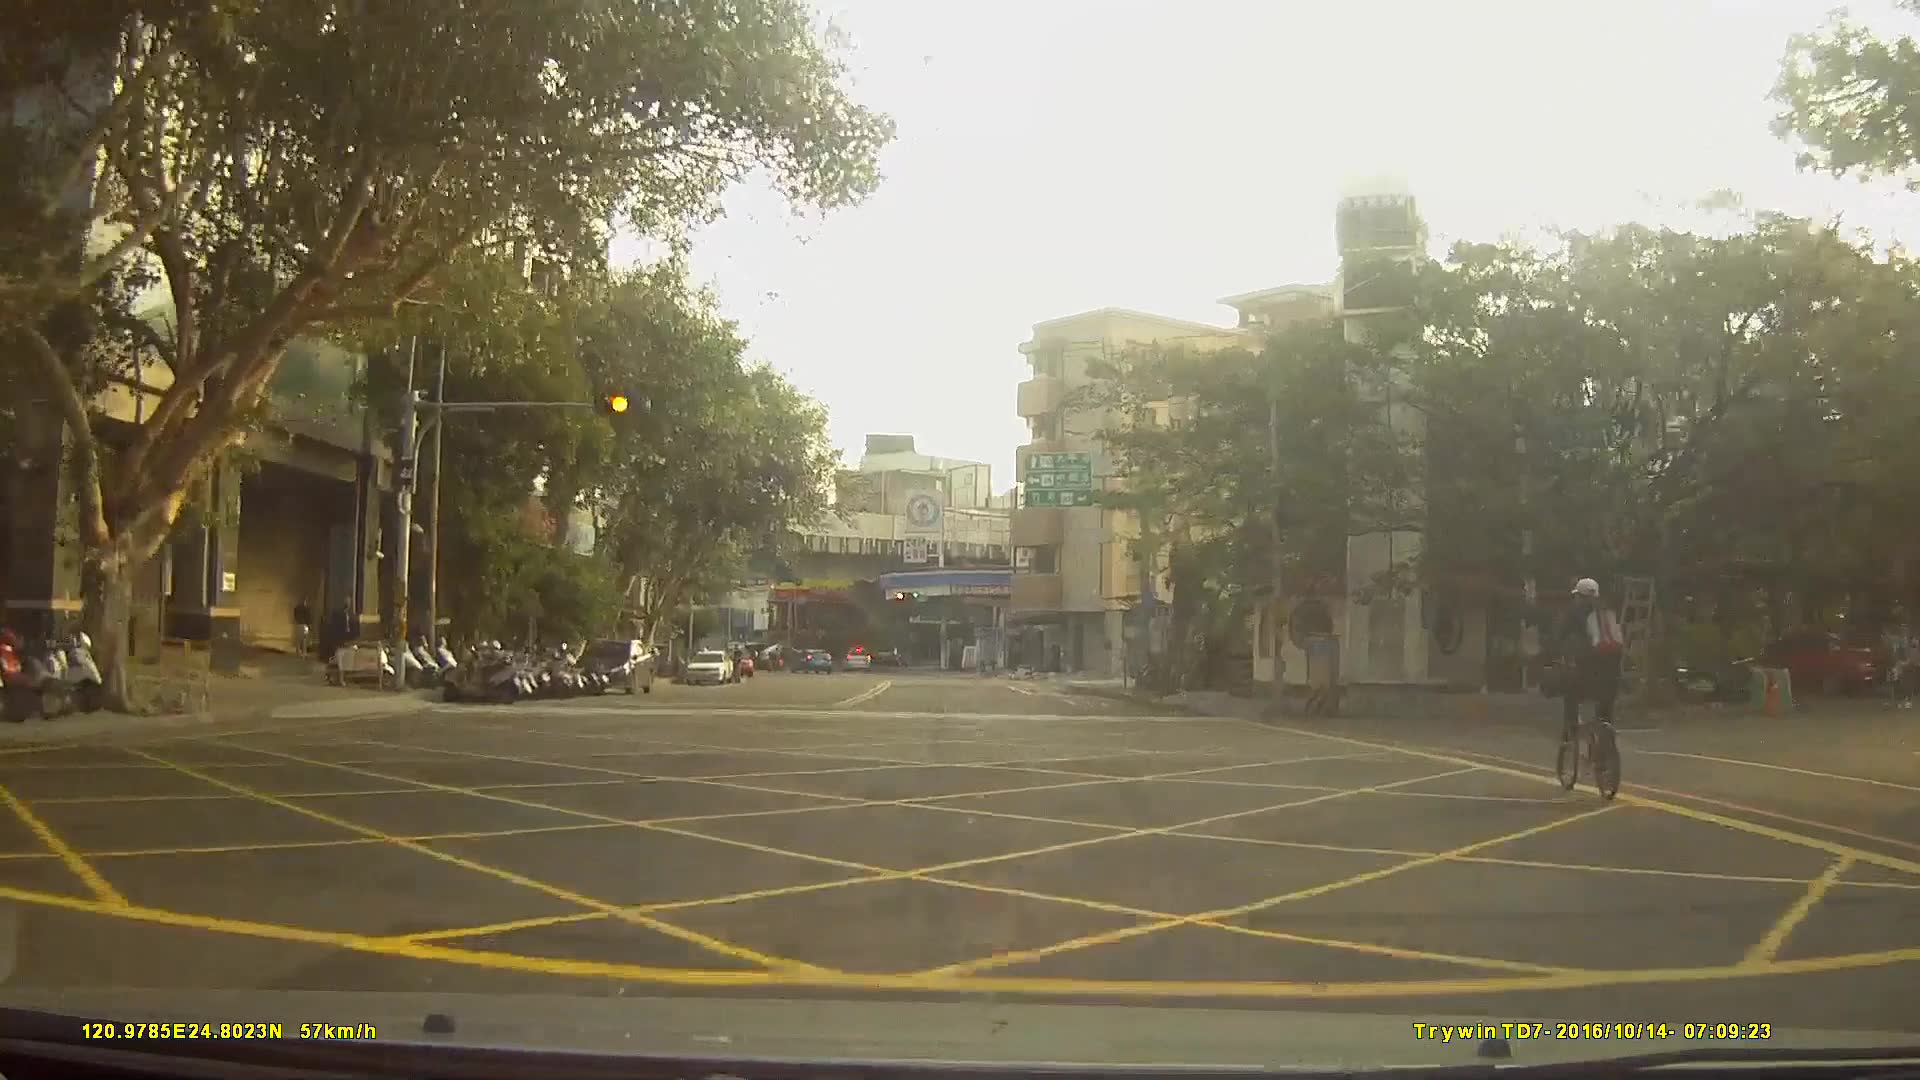pedestrian: (291, 598, 313, 661)
rider: (1538, 576, 1626, 804)
vehicle: (1721, 626, 1874, 697), (576, 635, 654, 693), (684, 647, 733, 685), (792, 643, 832, 671), (843, 643, 873, 671)
